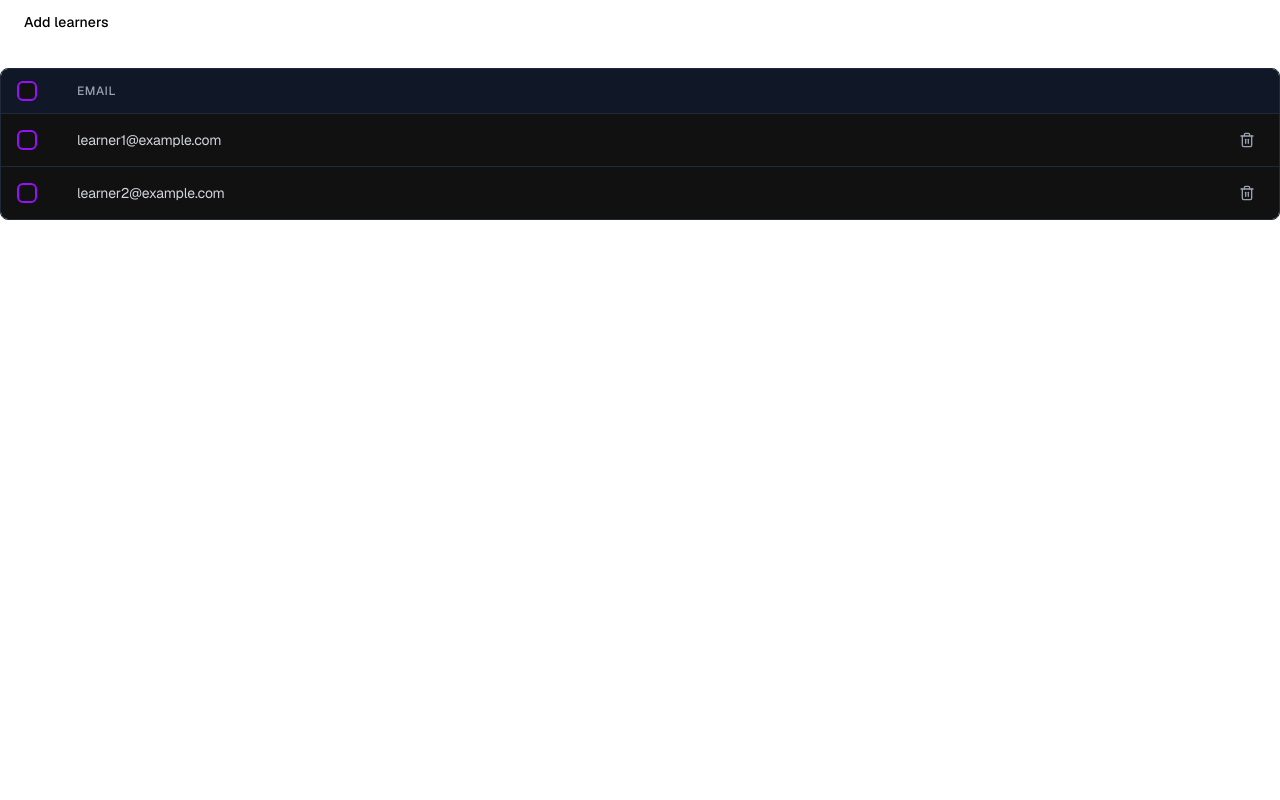
it: CohortMemberManagement Component › Invite Dialog Management › opens invite dialog when "Add learners" button is clicked
The width and height of the screenshot is (1280, 800).
Click the button "Add learners" at (66, 22), box [0,0,133,44]
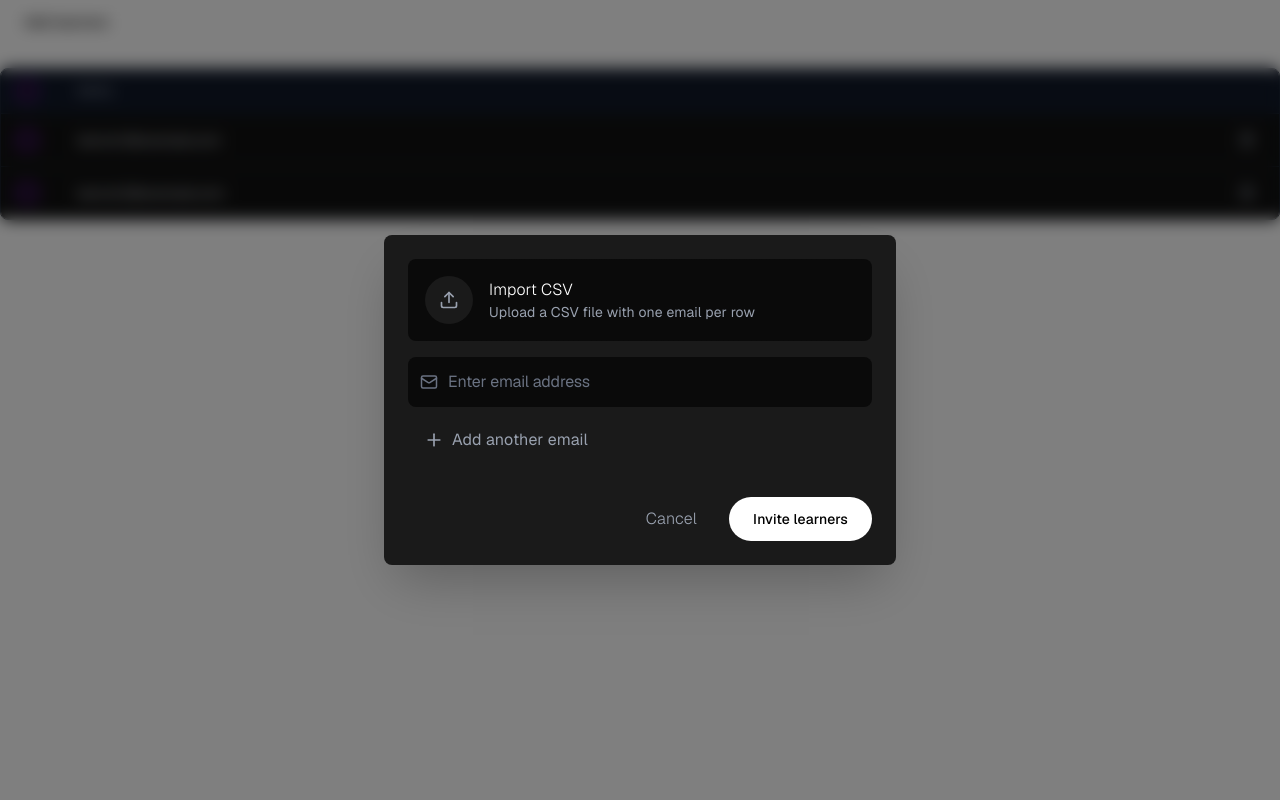
Now the field with placeholder "Enter email address" is shown, box [408,357,872,407]
